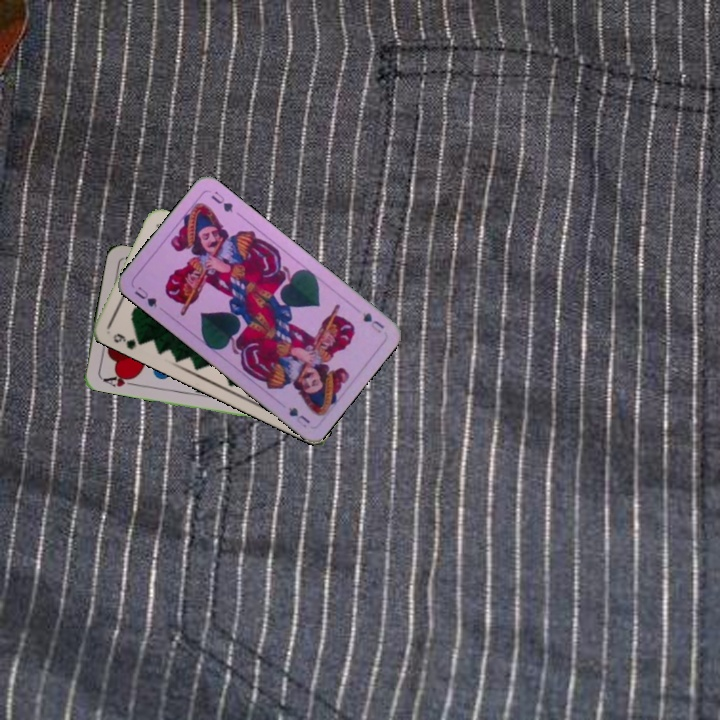G9: (109, 329, 147, 352)
GU: (130, 282, 160, 310), (359, 308, 387, 336)
HA: (98, 370, 139, 390)
